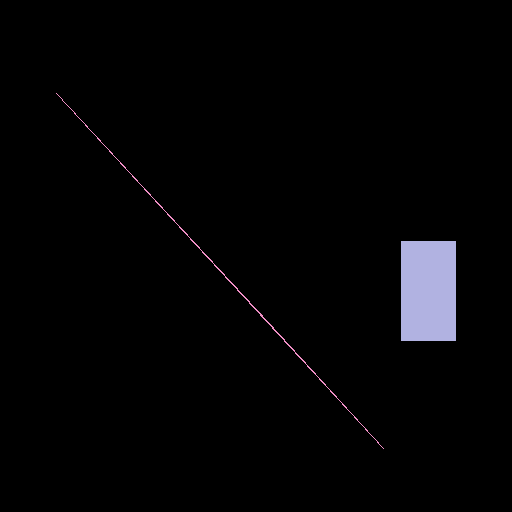rectangle: (401, 241, 455, 340)
